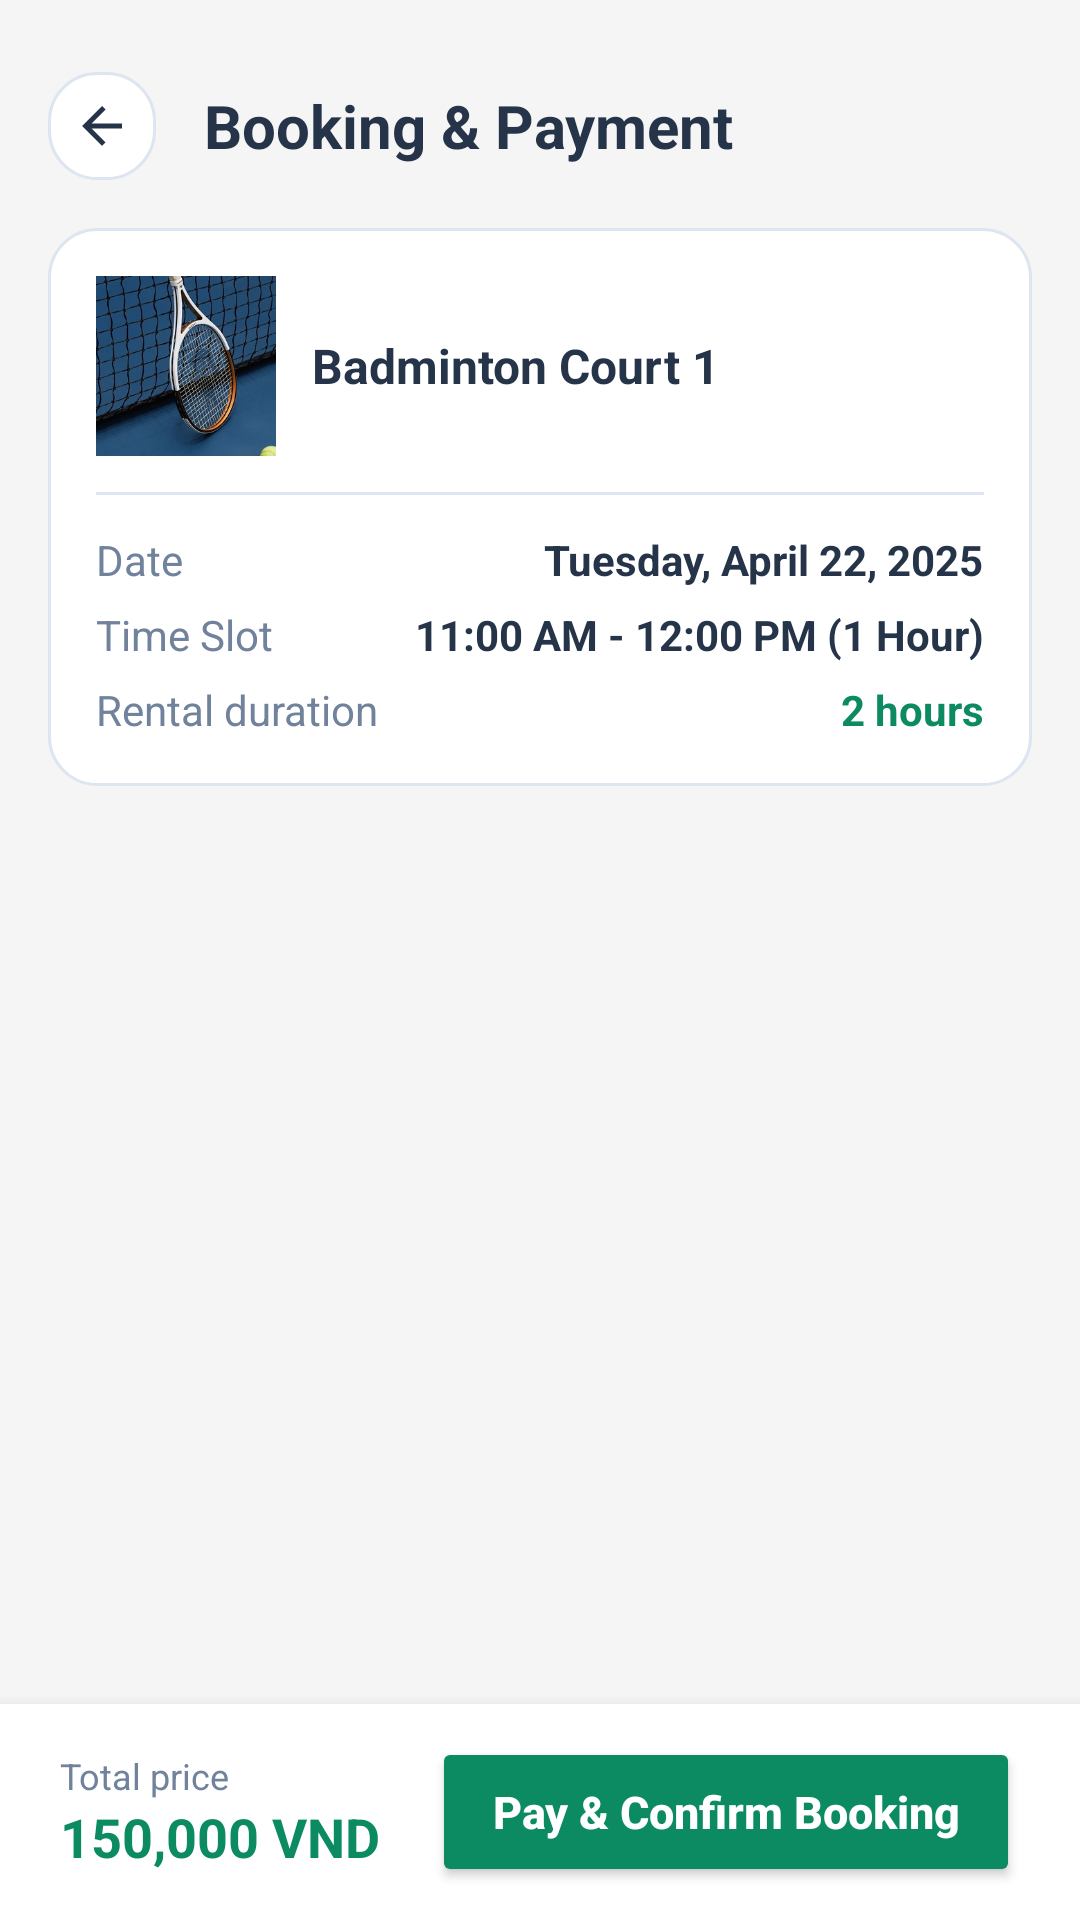

Where to tap for icons on this 1080px×1920px app screen, as (x=x, y=y):
Back: (x=102, y=126)
Court Thumbnail: (x=186, y=366)
